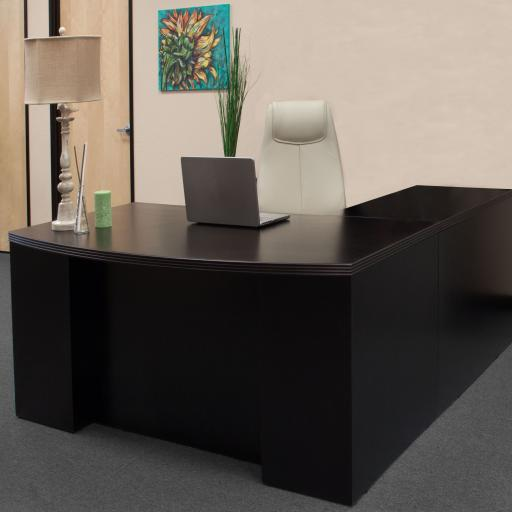Door: (48, 0, 134, 221), (0, 0, 30, 252)
chair: (256, 99, 346, 215)
desk: (8, 185, 512, 507)
wall: (132, 0, 512, 207), (27, 0, 52, 226)
